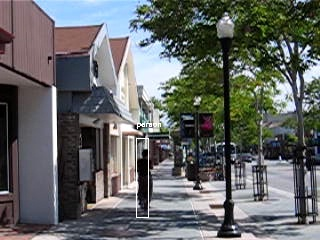person: (136, 150, 155, 212), (135, 150, 154, 212), (137, 150, 156, 212), (136, 149, 155, 211), (136, 151, 155, 213)
target_negative: (1, 126, 185, 173), (17, 26, 113, 81), (212, 72, 299, 119), (113, 102, 202, 125), (135, 161, 197, 177), (162, 190, 199, 205)
